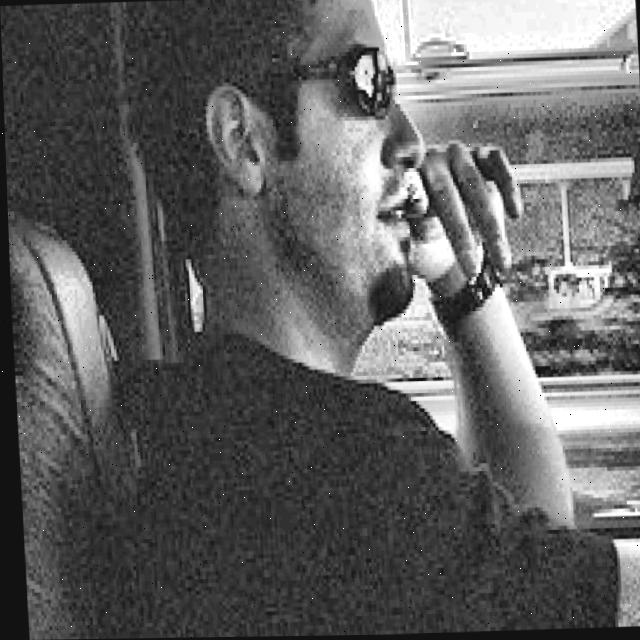light_vehicle: (298, 41, 640, 523)
